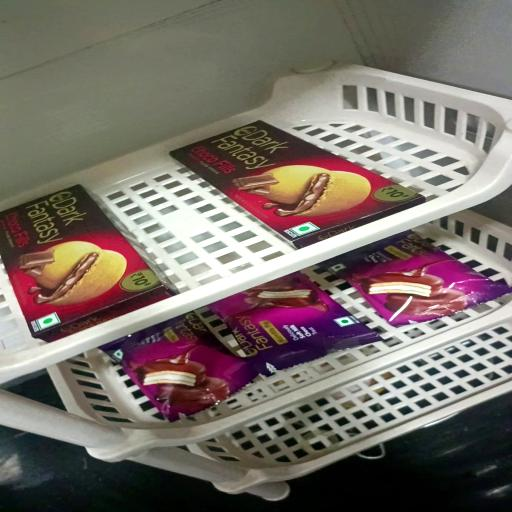Choco Fills: (166, 118, 424, 248), (0, 182, 177, 339)
Choco Pie: (314, 230, 509, 327), (206, 273, 382, 376), (103, 311, 261, 420)
